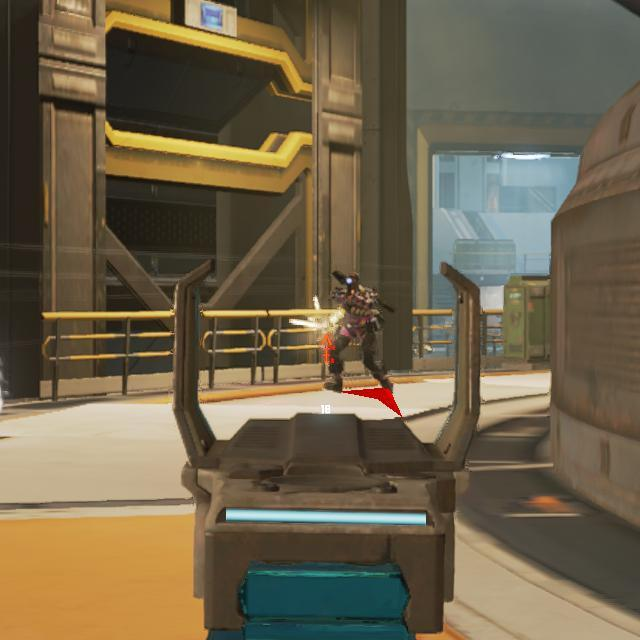avatar: (326, 268, 386, 393)
